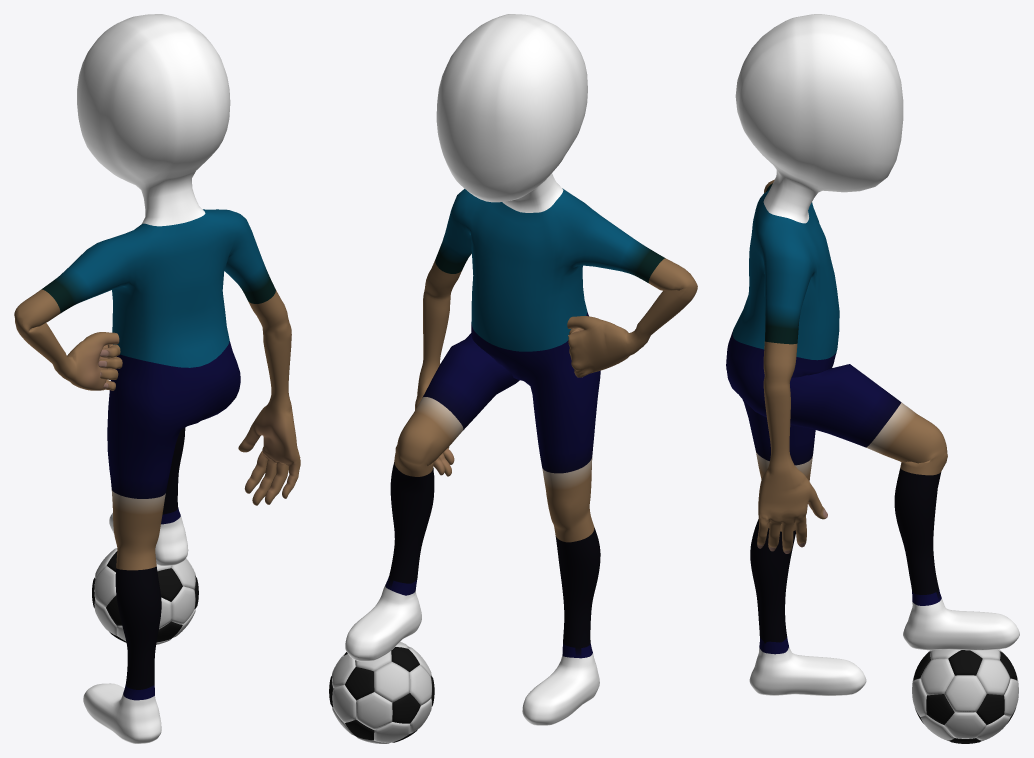
Rendered from awu 6.fbx.
The picture shows the model from 3 angles, left to right: view 1: azimuth 30°, elevation 25°; view 2: azimuth 150°, elevation 25°; view 3: azimuth 270°, elevation 25°; orthographic projection.
Visible parts, largest first — view 1: Character1, Football_LowPoly:Mesh; view 2: Character1, Football_LowPoly:Mesh; view 3: Character1, Football_LowPoly:Mesh.
Part boxes in pixels (x1,y1,x2,y2): Character1: (14,14,300,743); Football_LowPoly:Mesh: (92,548,198,644); Character1: (345,14,697,725); Football_LowPoly:Mesh: (329,642,434,743); Character1: (726,14,1019,695); Football_LowPoly:Mesh: (912,649,1018,743).
Size of the model in its own units: 3.49 by 8.31 by 3.22.
